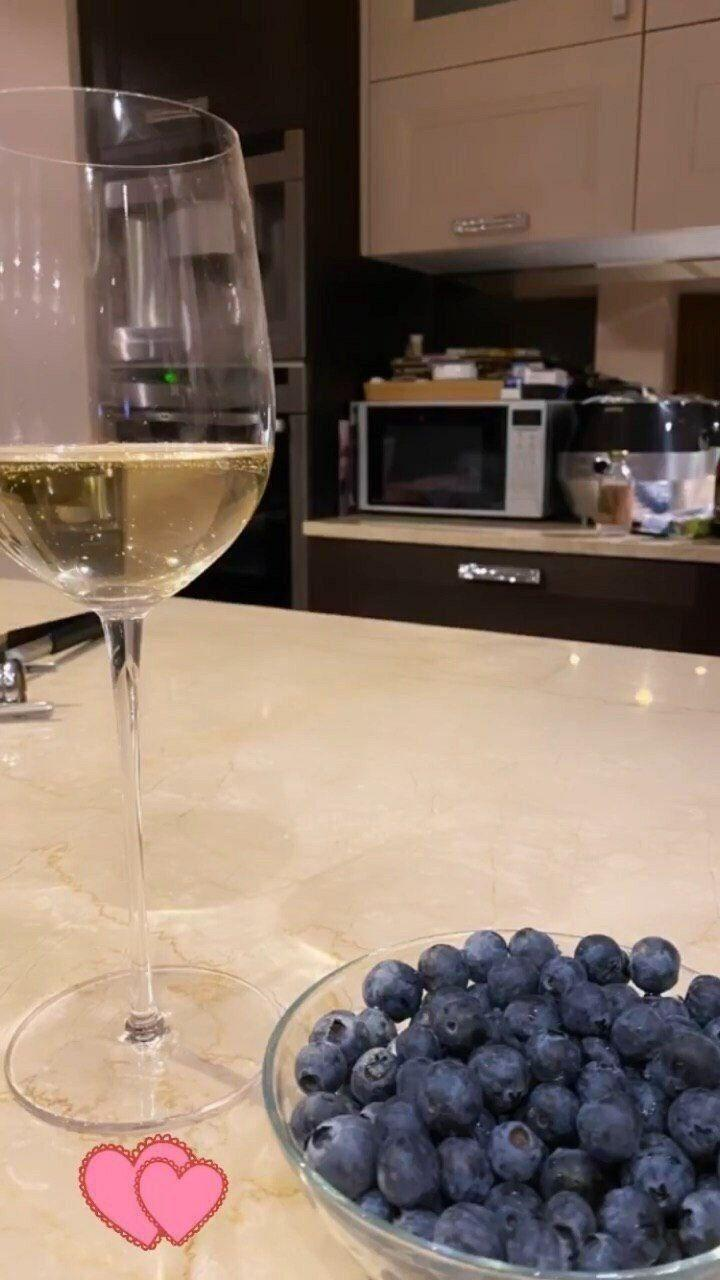glass-wine: (2, 85, 287, 1145)
